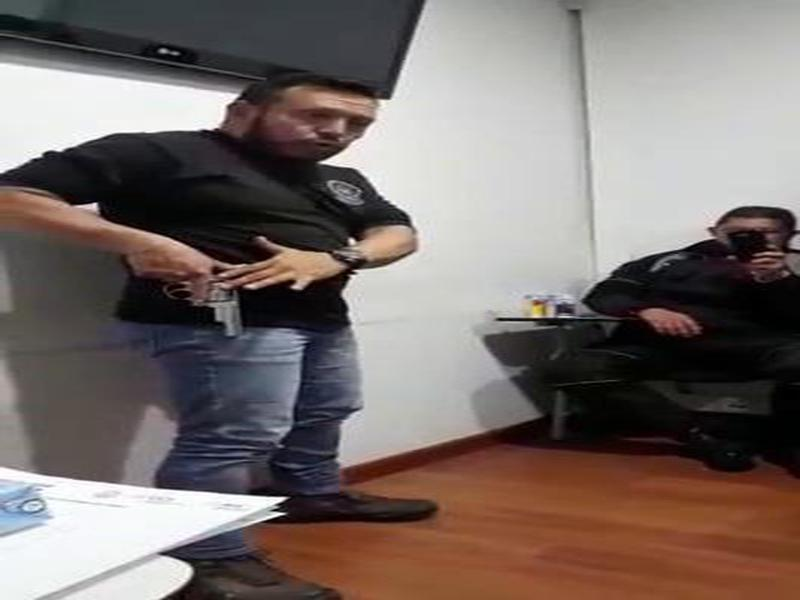Revolver: (167, 242, 250, 355)
